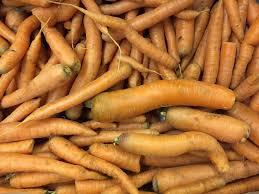Organic: (4, 2, 259, 190)
